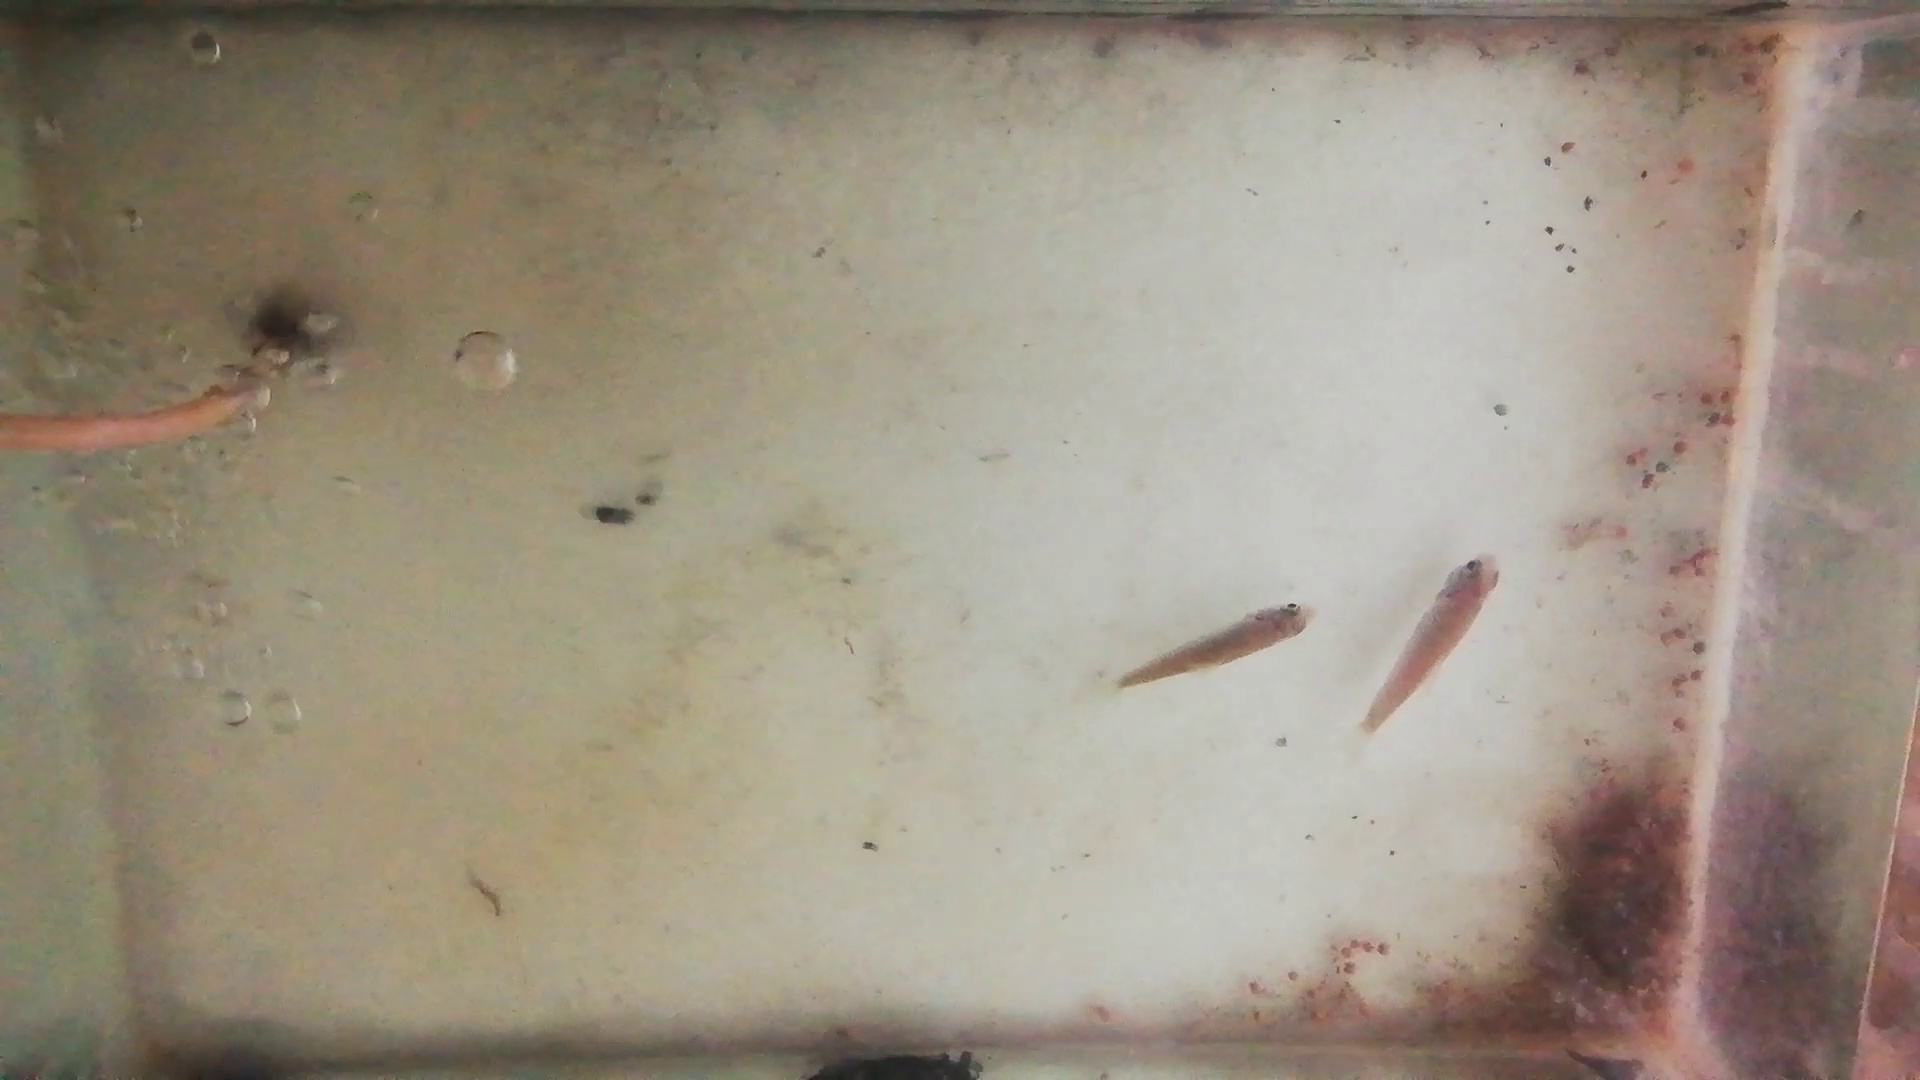fish: (1364, 553, 1505, 733), (1116, 607, 1316, 688)
